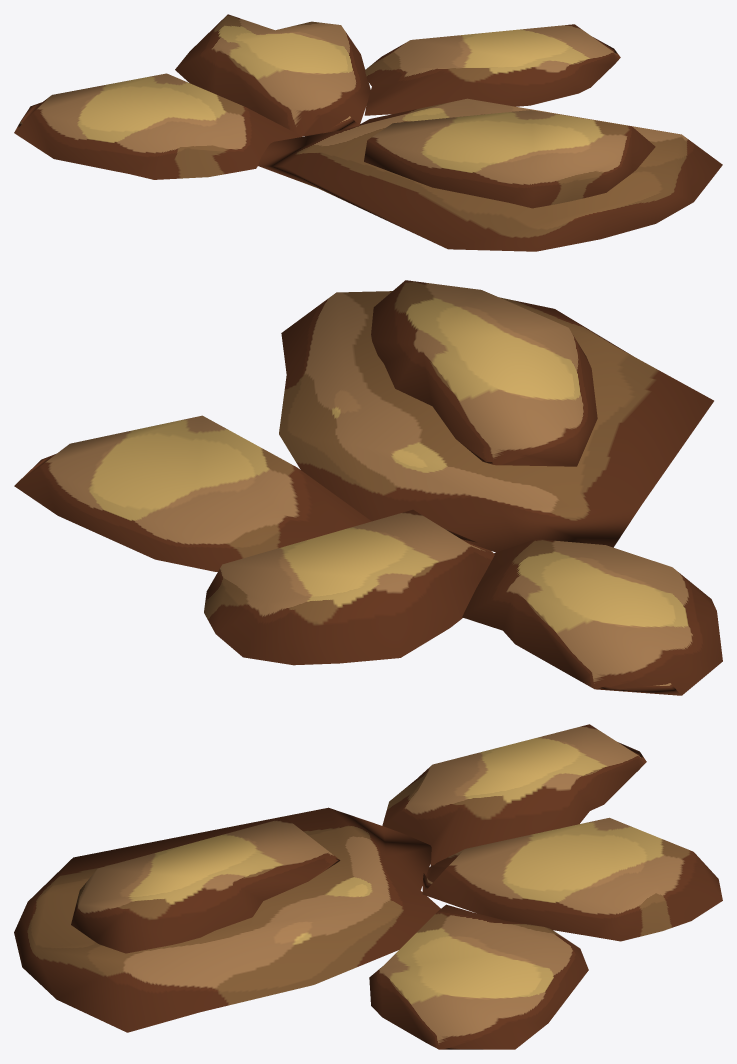
File: Rock 2x 2 9_preview_3DS_simplified.glb
3 views of the same model, one above another, from view 1: azimuth 30°, elevation 25°; view 2: azimuth 150°, elevation 25°; view 3: azimuth 270°, elevation 25° (orthographic). The views are drawn at different scales.
Visible parts, largest first — view 1: Marine Park Empire model; view 2: Marine Park Empire model; view 3: Marine Park Empire model.
Boxes of the visible parts, x1=… form: Marine Park Empire model: x1=14, y1=14, x2=722, y2=251; Marine Park Empire model: x1=14, y1=280, x2=722, y2=695; Marine Park Empire model: x1=14, y1=724, x2=722, y2=1049.
Bounding box in the file's own units: 59.77 × 6.55 × 58.76.
Materials: 1 (1 with a texture image).
